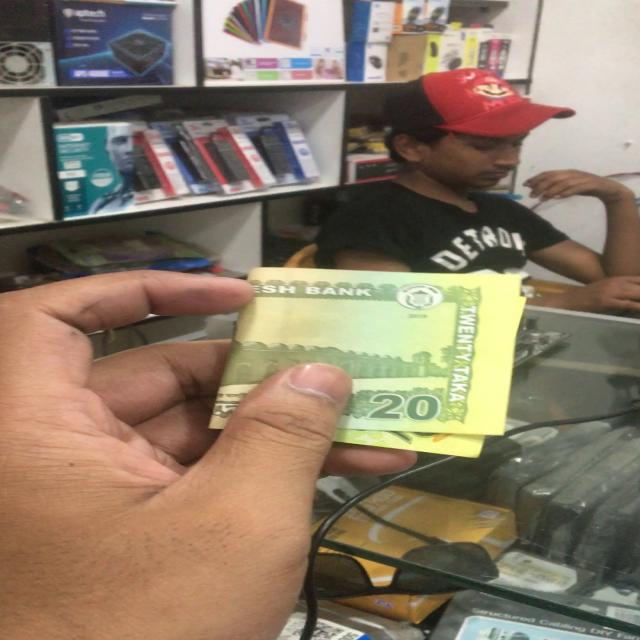Taka: (217, 264, 503, 457)
